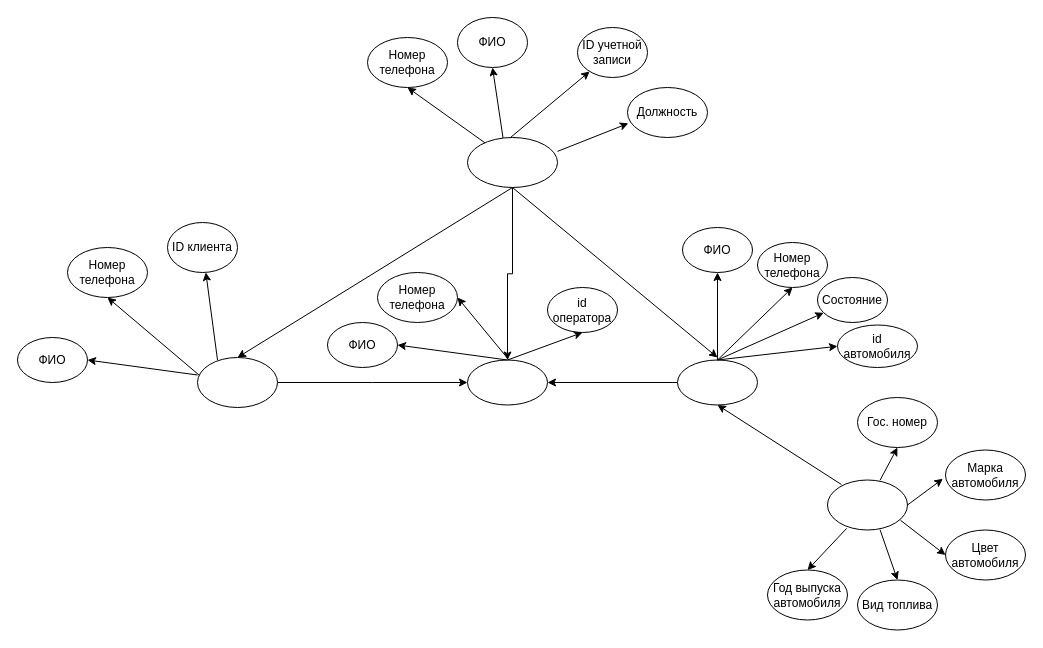
This 1043x648 diagram has some shape labels left out. The centre of each missing label's shape, as x and y in pixels:
"Автомобиль" belongs at (x=867, y=504).
"Авторизация" belongs at (x=512, y=162).
"Водитель" belongs at (x=717, y=382).
"Клиент" belongs at (x=237, y=382).
"Оператор" belongs at (x=507, y=382).
